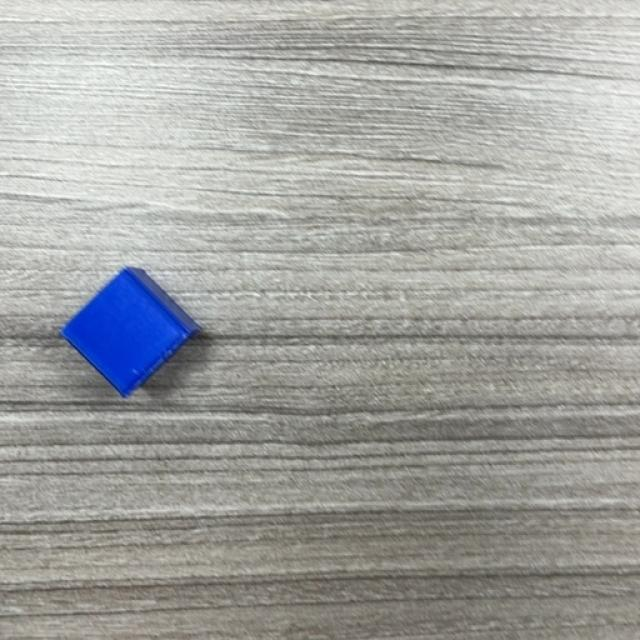Azul: (60, 268, 202, 399)
